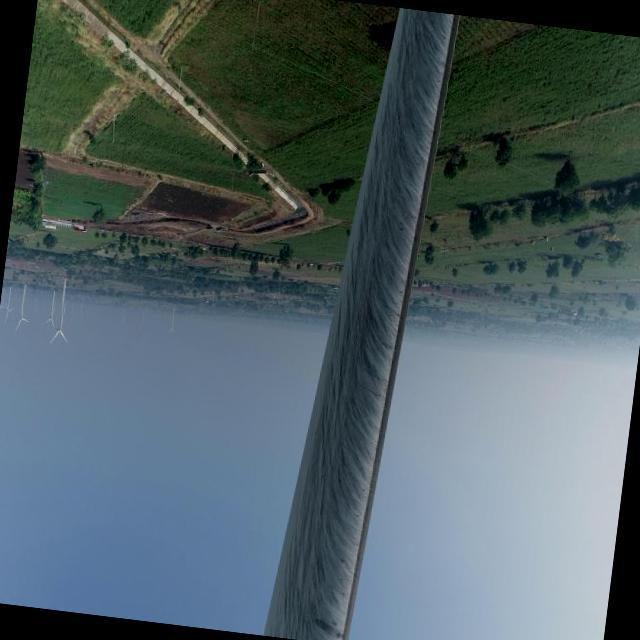Dirt: (261, 6, 464, 640)
